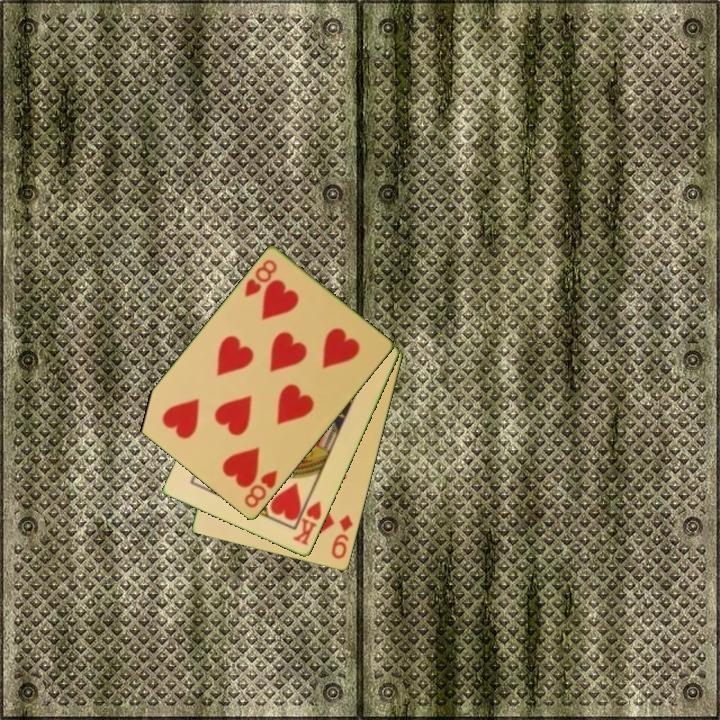8h: (241, 467, 281, 511), (241, 256, 280, 300)
9d: (328, 511, 356, 562)
Kh: (290, 492, 325, 549)
